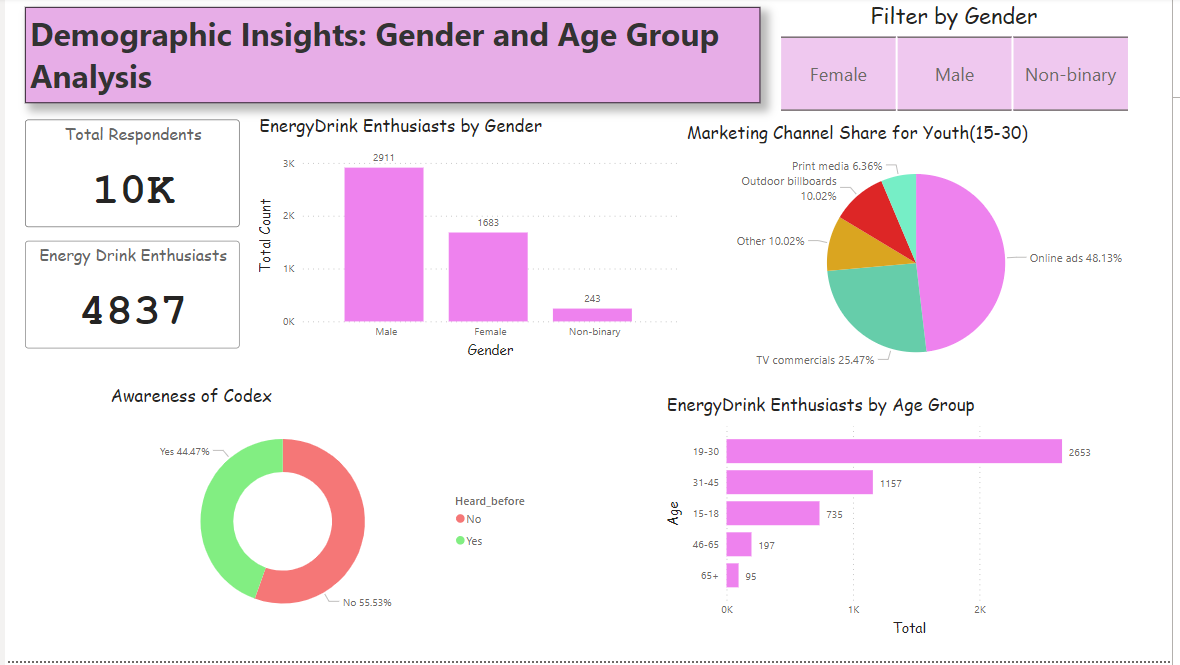

The dashboard page shown, as its layout file describes it:
{"tool":"powerbi","page":{"name":"Demographic Insights","canvas":[1370,780],"ordinal":0},"visuals":[{"type":"clusteredColumnChart","title":"EnergyDrink Enthusiasts by Gender","fields":{"Y":["dim_cities.ConsumeFrequencyCount"],"Category":["dim_repondents.Gender"]},"box":[294,135.9,501.7,294],"z":0},{"type":"clusteredBarChart","title":"EnergyDrink Enthusiasts by Age Group","fields":{"Y":["dim_cities.Consume Frequency Count by AgeGroup"],"Category":["dim_repondents.Age"]},"box":[771.9,463.7,522.4,293.5],"z":1000},{"type":"donutChart","title":"Awareness of Codex","fields":{"Y":["dim_cities.Total count"],"Category":["fact_survey_responses.Heard_before"]},"box":[118.9,453.4,516.5,296.4],"z":2000},{"type":"pieChart","title":"Marketing Channel Share for Youth(15-30)","fields":{"Y":["dim_cities.Marketing channel count"],"Category":["fact_survey_responses.Marketing_channels"]},"box":[795.4,143.8,548.8,309.6],"z":3000},{"type":"card","title":"Energy Drink Enthusiasts","fields":{"Values":["dim_cities.ConsumeFrequencyCount"]},"box":[23.5,286.1,252.2,126.7],"z":4000},{"type":"card","title":"Total Respondents","fields":{"Values":["dim_cities.Total count"]},"box":[23.5,143.7,252.2,126.7],"z":5000},{"type":"slicer","title":"Filter by Gender","fields":{"Values":["dim_repondents.Gender"]},"box":[885.8,0,458.6,135.9],"z":6000},{"type":"textbox","box":[23.5,11.7,862.9,113],"z":7000}]}

Visuals, with their boxes in screenshot pixels (x1, y1, x2, y2), scaled from the page's 1370x780 canvas onto the 1180x665 screenshot:
"EnergyDrink Enthusiasts by Gender" clusteredColumnChart: box(253, 116, 685, 367)
"EnergyDrink Enthusiasts by Age Group" clusteredBarChart: box(665, 395, 1115, 646)
"Awareness of Codex" donutChart: box(102, 387, 547, 639)
"Marketing Channel Share for Youth(15-30)" pieChart: box(685, 123, 1158, 387)
"Energy Drink Enthusiasts" card: box(20, 244, 237, 352)
"Total Respondents" card: box(20, 123, 237, 231)
"Filter by Gender" slicer: box(763, 0, 1158, 116)
textbox: box(20, 10, 763, 106)
